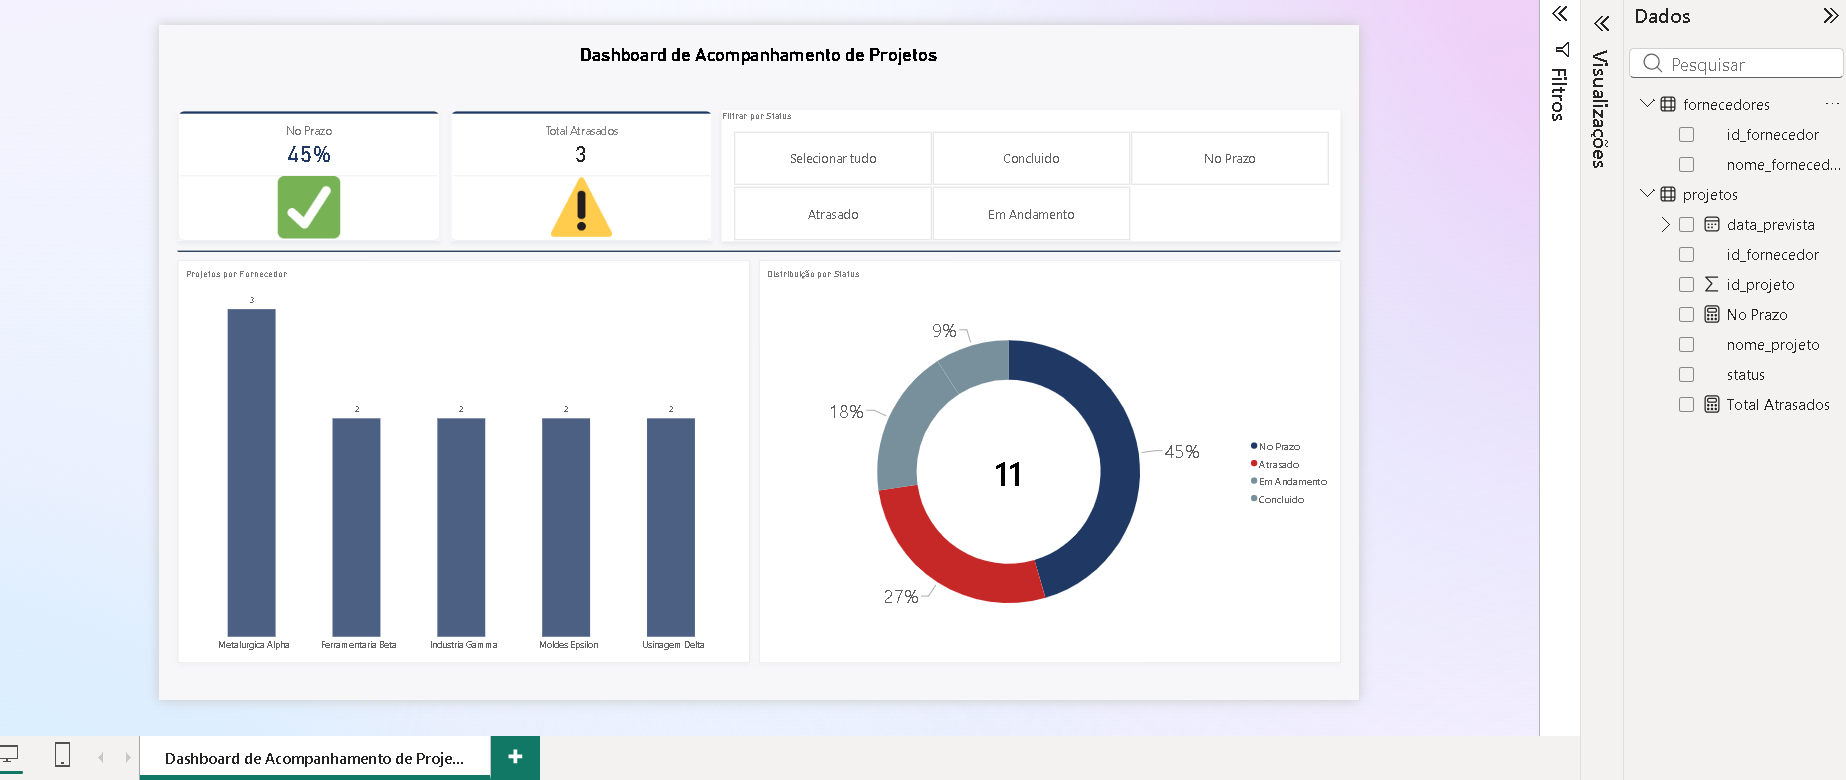

Layout of this report page (visuals, bound fields, positions):
{"tool":"powerbi","page":{"name":"Dashboard de Acompanhamento de Projetos","canvas":[1920,1080],"ordinal":0},"visuals":[{"type":"cardVisual","fields":{"Data":["projetos.No Prazo"]},"box":[30,135,420,210],"z":0},{"type":"cardVisual","fields":{"Data":["projetos.Total Atrasados"]},"box":[465,135,420,210],"z":1000},{"type":"clusteredColumnChart","title":"Projetos por Fornecedor","fields":{"Category":["fornecedores.nome_fornecedor"],"Y":["CountNonNull(projetos.id_projeto)"]},"box":[30,375,915,645],"z":2000},{"type":"donutChart","title":"Distribuição por Status","fields":{"Category":["projetos.status"],"Y":["CountNonNull(projetos.id_projeto)"]},"box":[960,375,930,645],"z":3000},{"type":"slicer","title":"Filtrar por Status","fields":{"Values":["projetos.status"]},"box":[900,135,990,210],"z":4000},{"type":"textbox","title":"Dashboard de Acompanhamento de Projetos","box":[30,30,1860,75],"z":5000},{"type":"shape","box":[30,212,1860,300],"z":5001}]}

Visuals, with their boxes on the page's 1920x1080 design canvas (x1, y1, x2, y2). These are canvas units, not pixel positions in the 1846x780 screenshot, which may show the page scaled, cropped or inside an application window:
cardVisual - projetos.No Prazo: 30/135/450/345
cardVisual - projetos.Total Atrasados: 465/135/885/345
"Projetos por Fornecedor" clusteredColumnChart: 30/375/945/1020
"Distribuição por Status" donutChart: 960/375/1890/1020
"Filtrar por Status" slicer: 900/135/1890/345
"Dashboard de Acompanhamento de Projetos" textbox: 30/30/1890/105
shape: 30/212/1890/512
